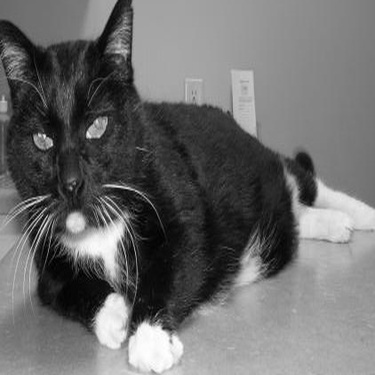cat: (1, 2, 369, 369)
